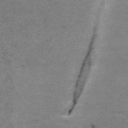finishing roll printing: (68, 0, 106, 114)
